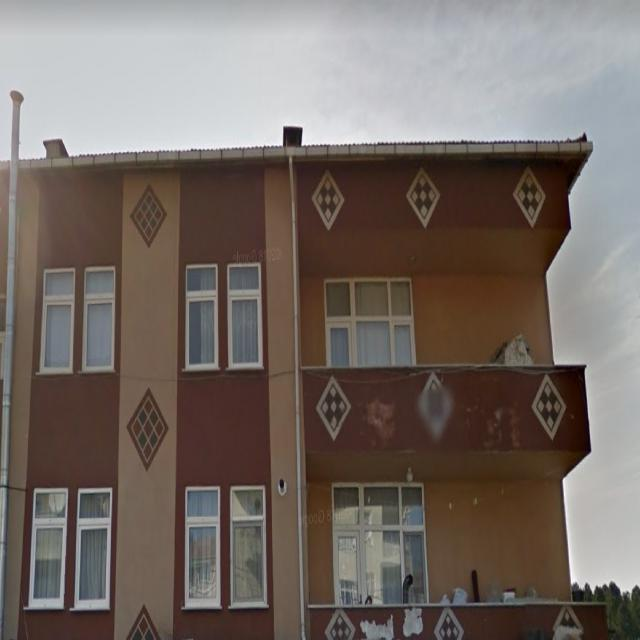Building: (0, 140, 612, 640)
